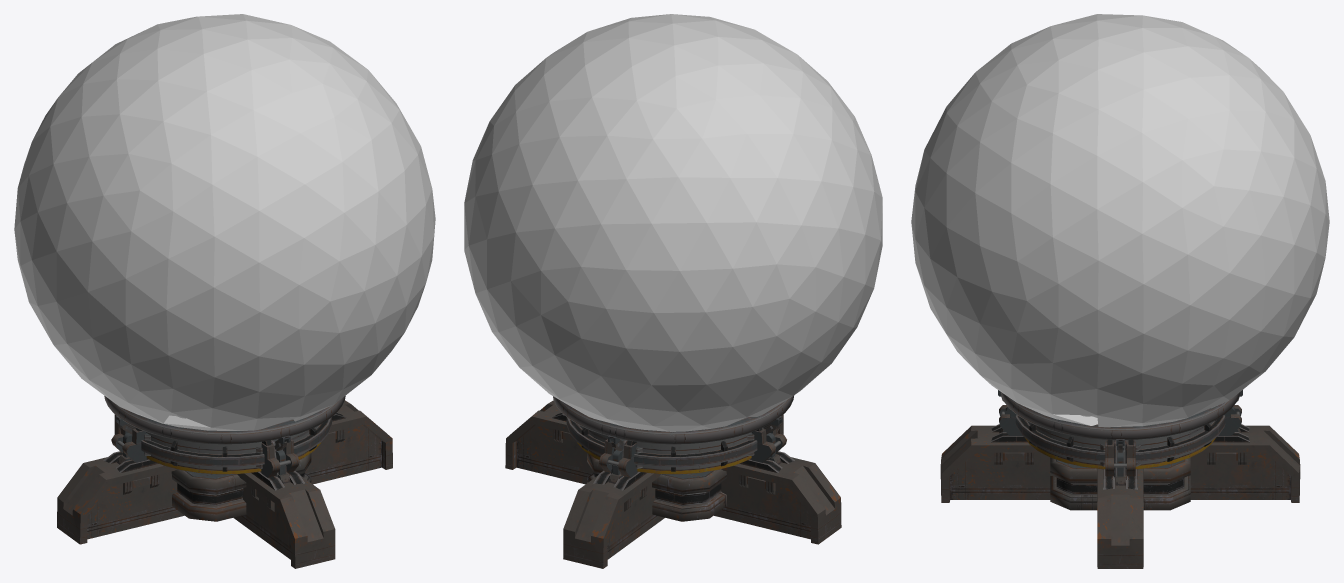
File: Radar_Sphere1_L1.fbx
3 views of the same model, side by side, from view 1: azimuth 30°, elevation 25°; view 2: azimuth 150°, elevation 25°; view 3: azimuth 270°, elevation 25° (orthographic).
Visible parts, largest first — view 1: Sphere, Base; view 2: Sphere, Base; view 3: Sphere, Base.
Part boxes in pixels (box(x1,y1,x2,y2)): Sphere: box(14, 14, 435, 430); Base: box(57, 396, 392, 568); Sphere: box(464, 14, 882, 431); Base: box(505, 396, 841, 568); Sphere: box(911, 14, 1329, 427); Base: box(940, 390, 1300, 568).
Bounding box in the file's own units: 289 × 352 × 291.
